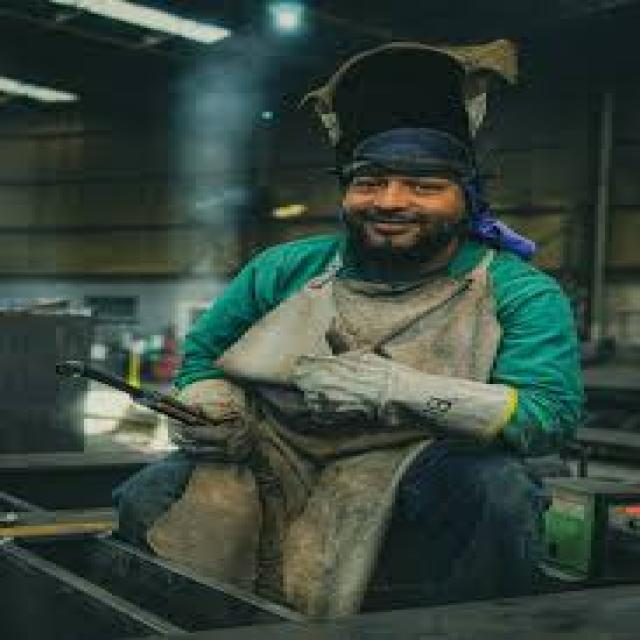helmet_lifted: (298, 39, 492, 278)
